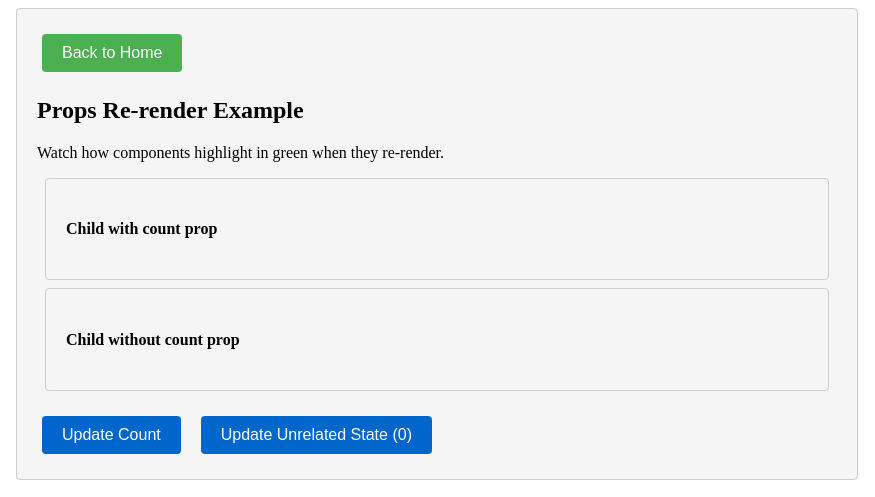
PropsExample › updates unrelated state counter
Click the button "Update Unrelated State (0)": (316, 435) [201, 416, 432, 454]
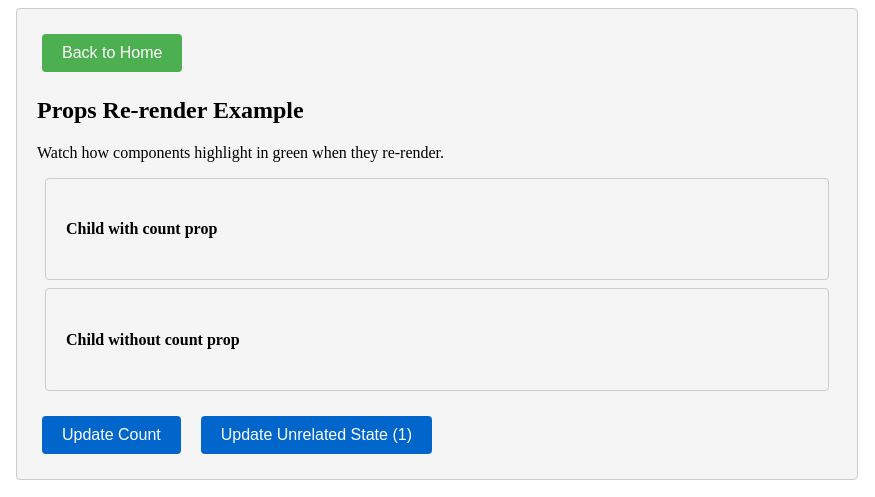
Expected: the button "Update Unrelated State (1)" is shown, [201, 416, 432, 454]
